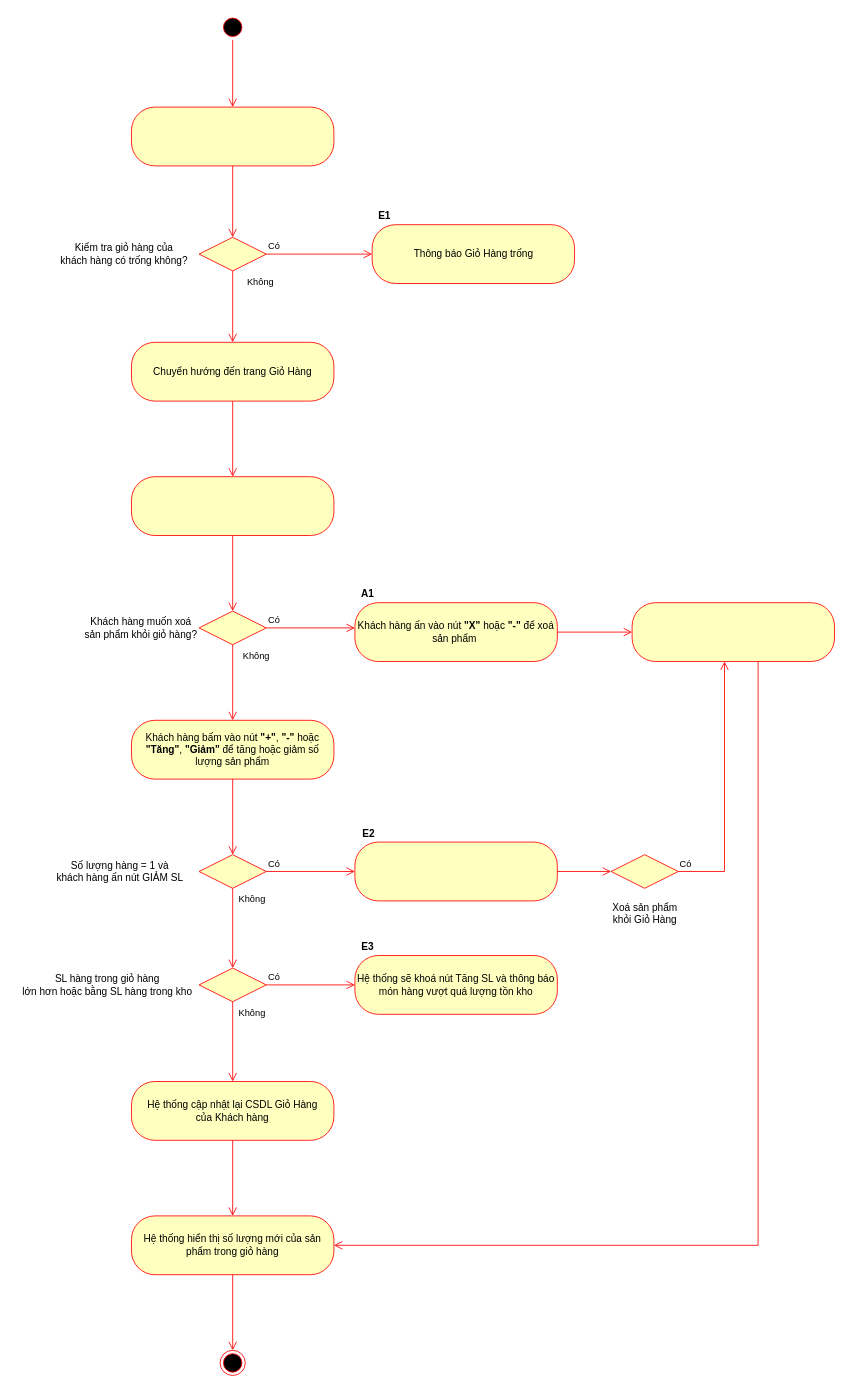
The diagram is 849 pixels wide and 1390 high, and some of its shapes have lost their labels. The box of each missing label's shape, as (x1, y1, x2, y2) in pixels:
Hệ thống hiển thị và hỏi có muốn xoá sản phẩm ra khỏi giỏ hàng: (354, 841, 557, 901)
Hệ thống load dữ liệu của khách hàng từ CSDL lên trang Giỏ Hàng: (131, 476, 334, 536)
Hệ thống xoá sản phẩm mà khách chọn và cập nhật lại CSDL Giỏ Hàng của Khách hàng: (631, 602, 835, 662)
Khách hàng truy cập vào giỏ hàng: (131, 106, 334, 166)
